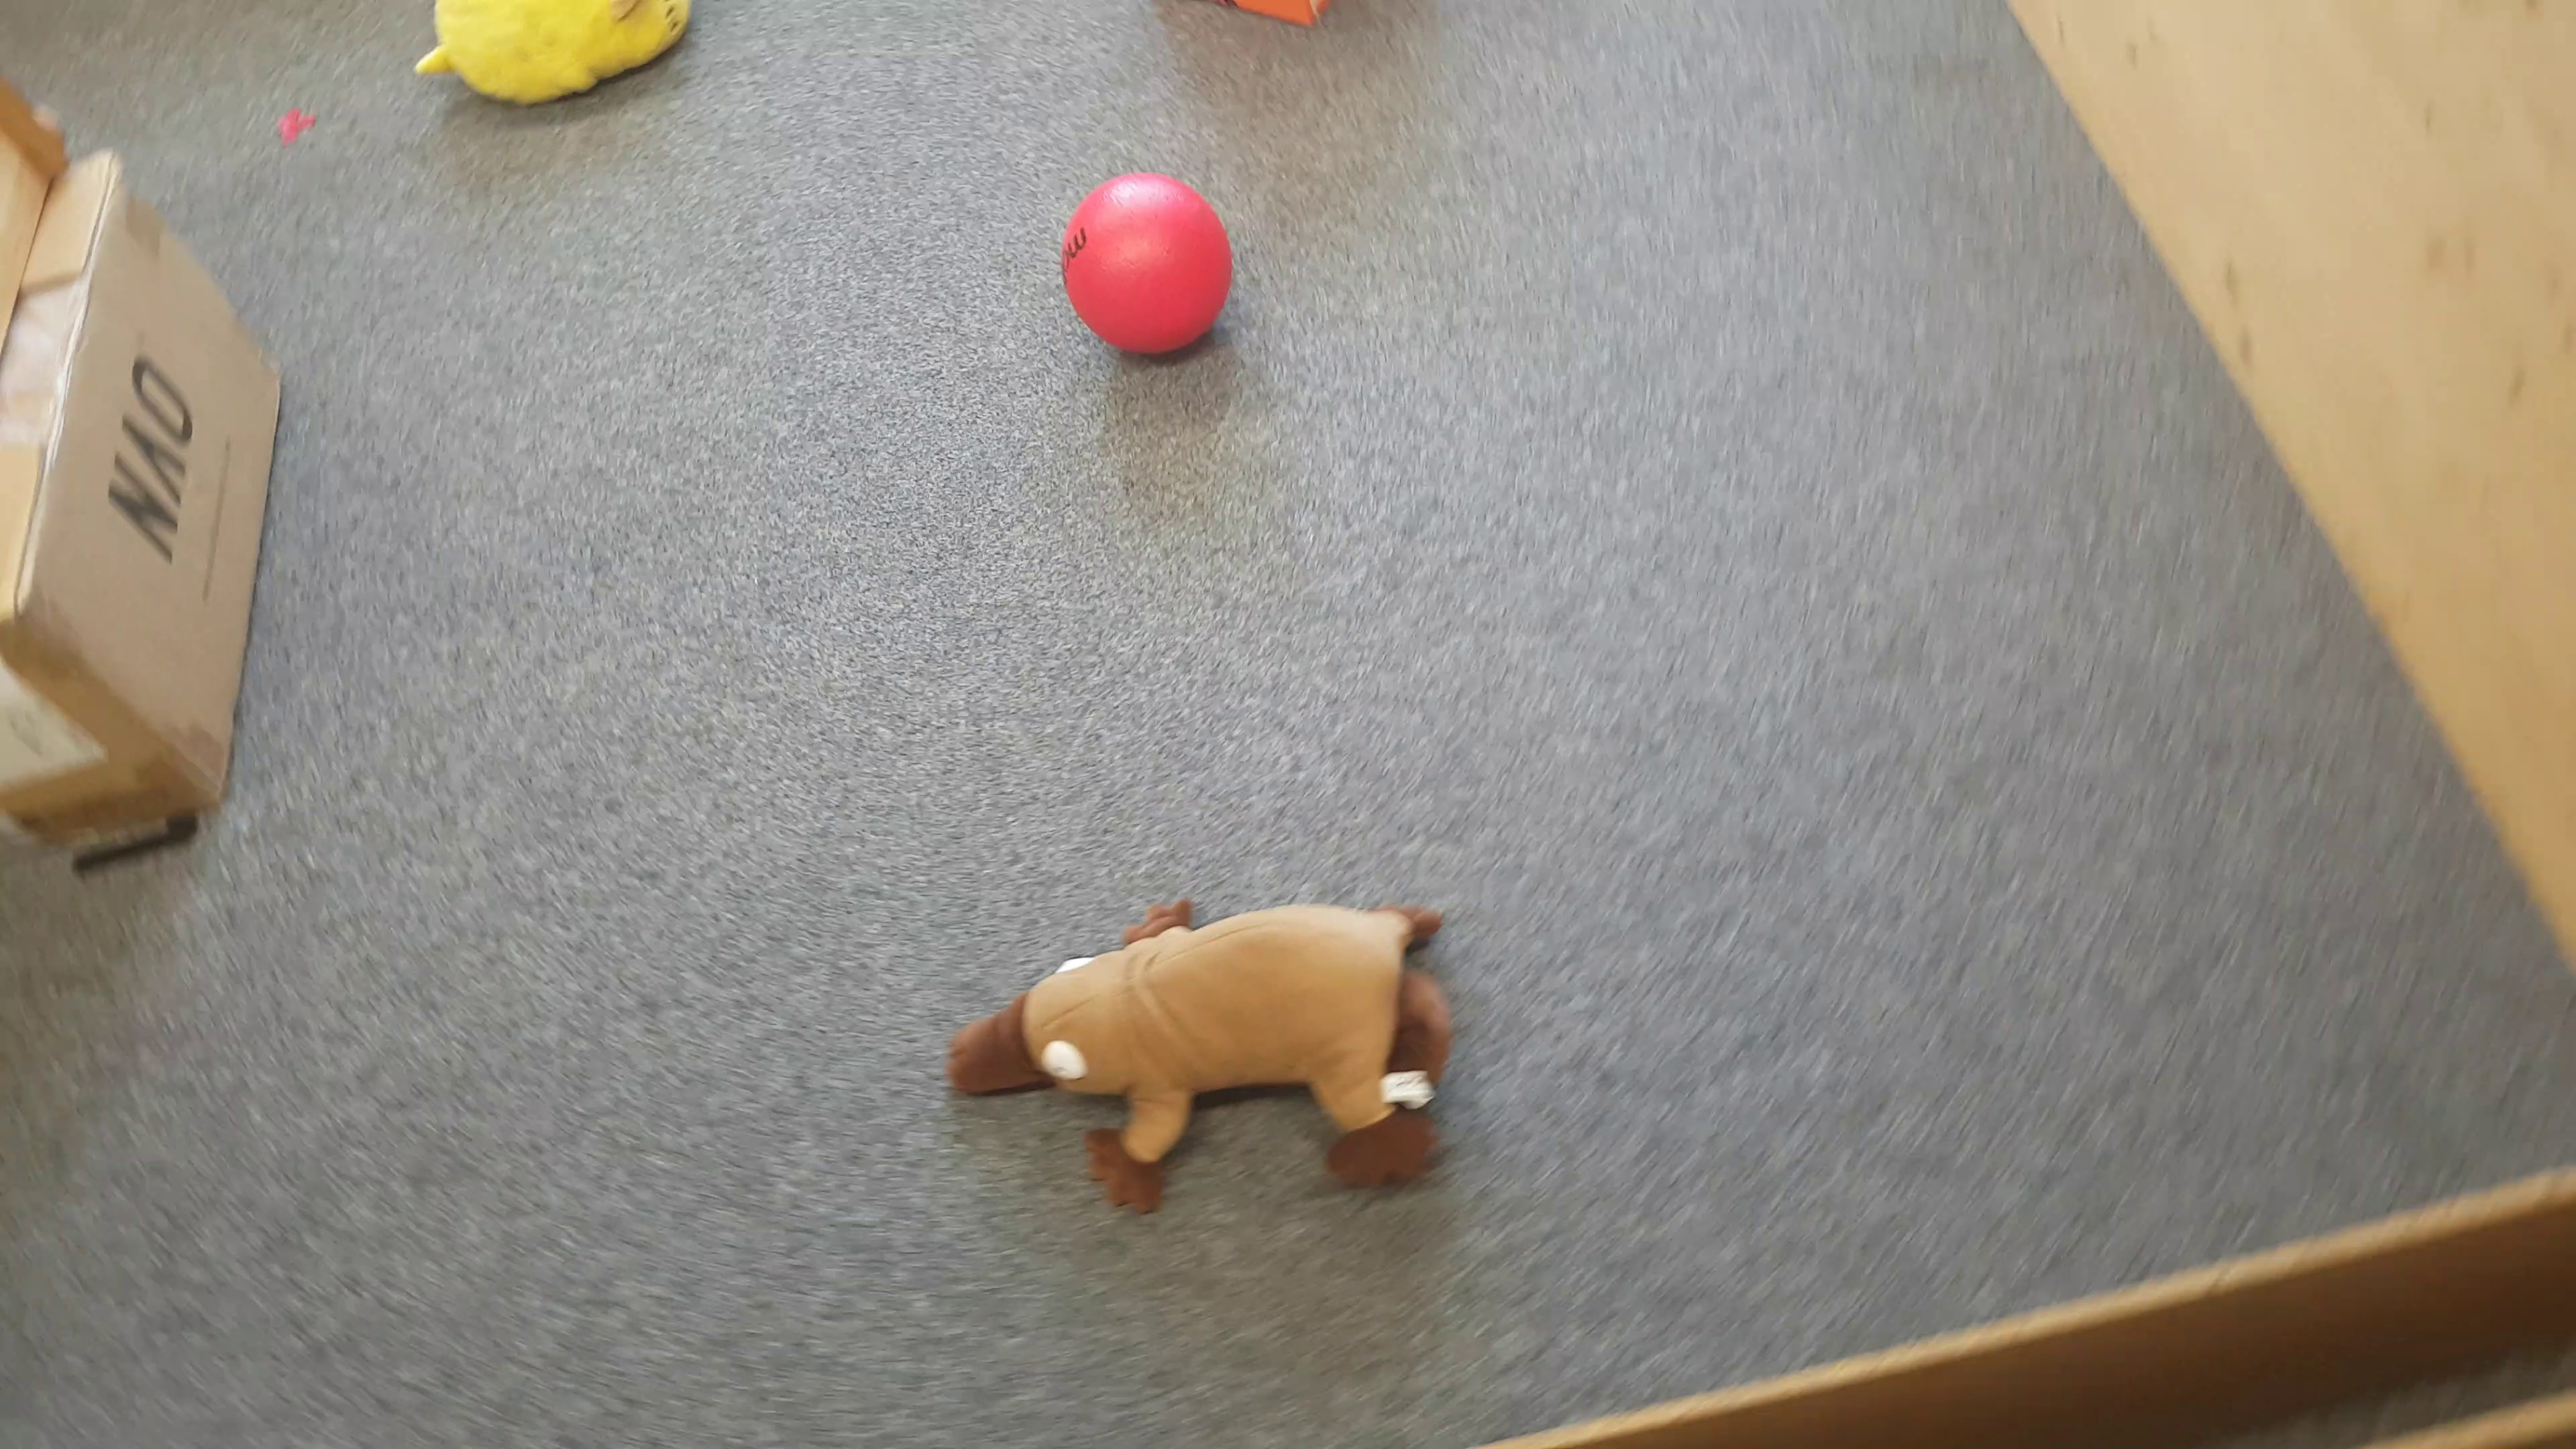grasp: (952, 899, 1449, 1203), (418, 2, 688, 97)
kick: (1069, 173, 1230, 354)
push: (1235, 0, 1330, 32)
